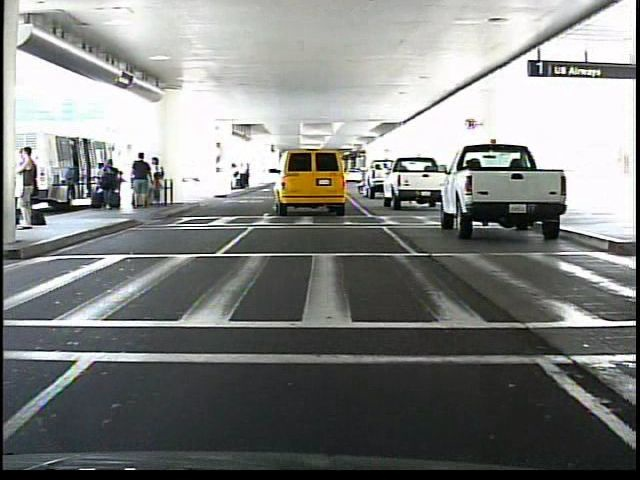person: (21, 145, 43, 231)
